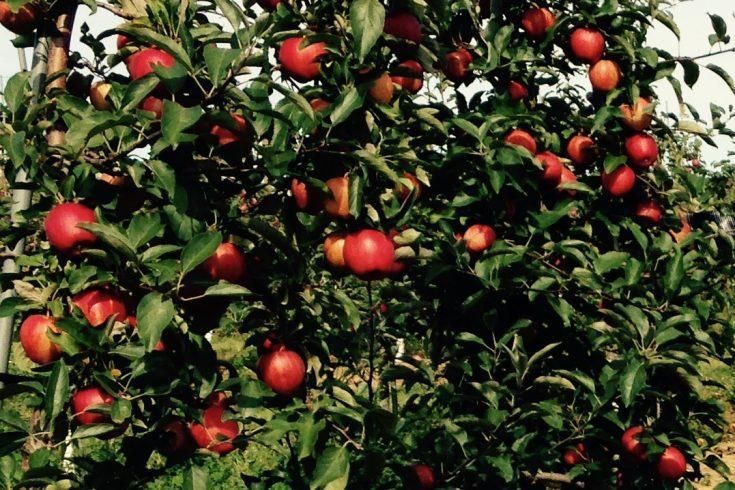apple: (275, 37, 332, 85), (45, 204, 102, 252), (256, 341, 313, 389), (343, 228, 400, 276), (21, 314, 78, 362)
